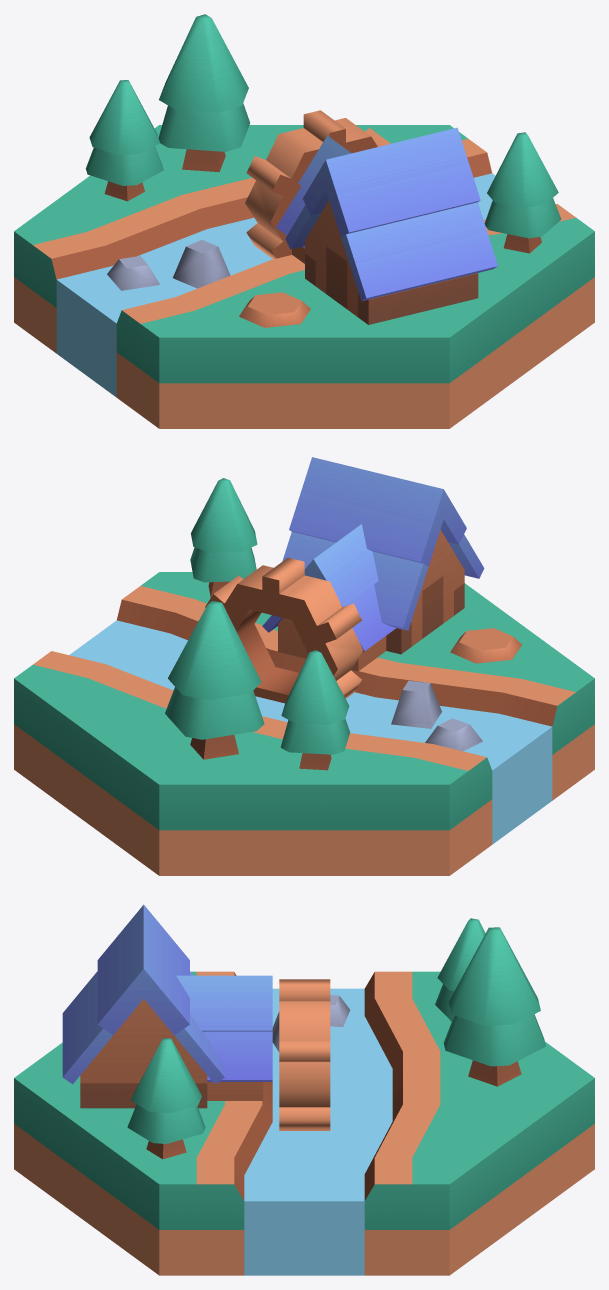
The model's file is building-watermill.fbx.
The picture shows the model from 3 angles, top to bottom: view 1: azimuth 30°, elevation 25°; view 2: azimuth 150°, elevation 25°; view 3: azimuth 270°, elevation 25°; orthographic projection.
Visible parts, largest first — view 1: building_watermill, rotate_z; view 2: building_watermill, rotate_z; view 3: building_watermill, rotate_z.
Boxes of the visible parts, <box> form: building_watermill: <box>14,14,594,428</box>; rotate_z: <box>245,110,390,259</box>; building_watermill: <box>14,457,594,875</box>; rotate_z: <box>205,557,363,703</box>; building_watermill: <box>14,904,594,1275</box>; rotate_z: <box>279,979,330,1130</box>.
Bounding box in the file's own units: 100 × 51.92 × 115.
Materials: 1 (1 with a texture image).
